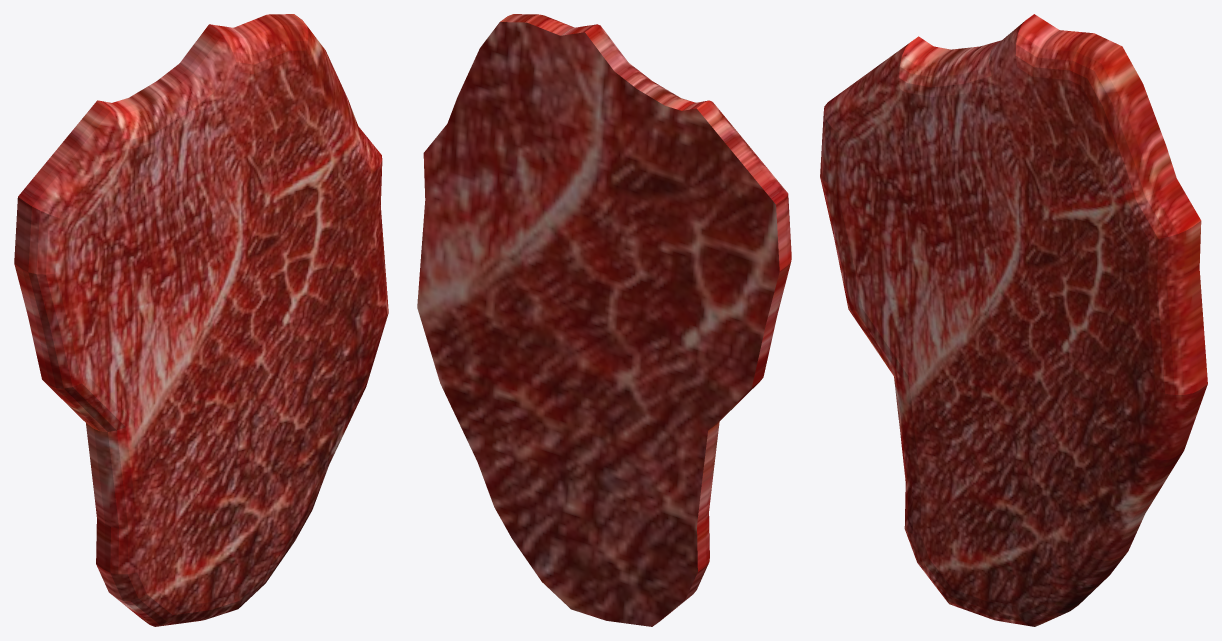
Rendered from ham.fbx.
3 views of the same model, side by side, from view 1: azimuth 30°, elevation 25°; view 2: azimuth 150°, elevation 25°; view 3: azimuth 330°, elevation 25° (orthographic). The views are drawn at different scales.
Parts seen in each view (by area): view 1: Circle_0; view 2: Circle_0; view 3: Circle_0.
Boxes of the visible parts, x1=… form: Circle_0: x1=14, y1=14, x2=388, y2=626; Circle_0: x1=417, y1=14, x2=791, y2=626; Circle_0: x1=820, y1=14, x2=1207, y2=626.
Bounding box in the file's own units: 258 × 397 × 28.96.
